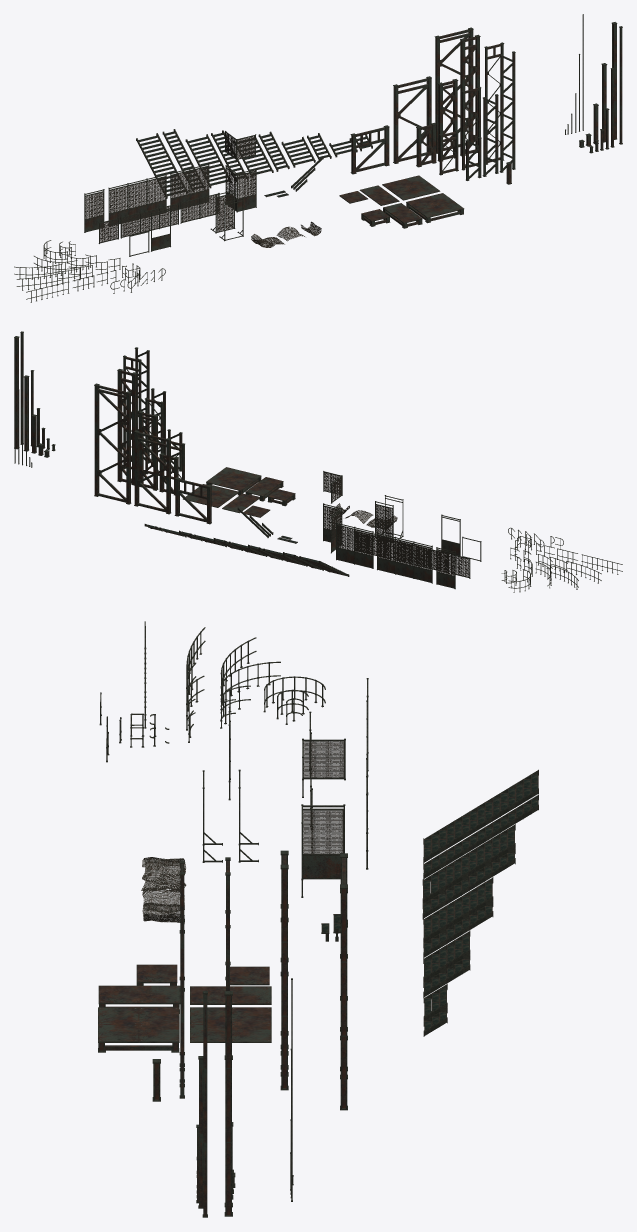
Rendered from beam_industrial_pack_n1.glb.
3 views of the same model, one above another, from view 1: azimuth 30°, elevation 25°; view 2: azimuth 150°, elevation 25°; view 3: azimuth 270°, elevation 25° (orthographic). The views are drawn at different scales.
Parts seen in each view (by area): view 1: beam_fence_03_Material #58_0, beam_big_big_mas_03_Material #58_0, beam_big_big_mas_02_Material #58_0, beam_fence_02_Material #58_0, beam_big_mas_03_Material #58_0, beam_fence_mid_03_Material #58_0, beam_pum_mas_03_Material #58_0, beam_fence_angle_01_Material #58_0, panel_mas_03_Material #58_0, beam_big_mas_02_Material #58_0, beam_stairs_big_05_Material #58_0, beam_big_big_mas_01_Material #58_0 (+22 smaller); view 2: beam_fence_03_Material #58_0, beam_big_big_mas_03_Material #58_0, beam_fence_02_Material #58_0, beam_big_big_mas_02_Material #58_0, beam_big_mas_03_Material #58_0, beam_big_mas_02_Material #58_0, panel_mas_03_Material #58_0, beam_big_big_mas_01_Material #58_0, beam_fence_01_Material #58_0, beam_fence_angle_01_Material #58_0, fence_barrier_01_Material #58_0, panel_03_Material #58_0 (+14 smaller); view 3: panel_mas_03_Material #58_0, beam_fence_angle_01_Material #58_0, beam_stairs_big_05_Material #58_0, panel_03_Material #58_0, beam_stairs_big_04_Material #58_0, beam_big_big_mas_03_Material #58_0, beam_fence_mid_angle_01_Material #58_0, panel_mas_02_Material #58_0, beam_stairs_mid_05_Material #58_0, beam_big_mas_03_Material #58_0, beam_stairs_big_03_Material #58_0, beam_big_03_Material #58_0 (+10 smaller).
Part boxes in pixels (left/top/right/bottom): beam_fence_03_Material #58_0: left=108, top=174, right=166, bottom=226; beam_big_big_mas_03_Material #58_0: left=434, top=27, right=473, bottom=153; beam_big_big_mas_02_Material #58_0: left=393, top=76, right=431, bottom=163; beam_fence_02_Material #58_0: left=170, top=163, right=209, bottom=211; beam_big_mas_03_Material #58_0: left=460, top=34, right=480, bottom=156; beam_fence_mid_03_Material #58_0: left=120, top=203, right=178, bottom=238; beam_pum_mas_03_Material #58_0: left=499, top=51, right=515, bottom=172; beam_fence_angle_01_Material #58_0: left=225, top=165, right=256, bottom=212; panel_mas_03_Material #58_0: left=406, top=193, right=464, bottom=223; beam_big_mas_02_Material #58_0: left=437, top=79, right=458, bottom=161; beam_stairs_big_05_Material #58_0: left=136, top=133, right=187, bottom=198; beam_big_big_mas_01_Material #58_0: left=350, top=125, right=389, bottom=174; beam_fence_03_Material #58_0: left=377, top=532, right=432, bottom=583; beam_big_big_mas_03_Material #58_0: left=94, top=383, right=131, bottom=504; beam_fence_02_Material #58_0: left=336, top=522, right=373, bottom=568; beam_big_big_mas_02_Material #58_0: left=134, top=430, right=171, bottom=514; beam_big_mas_03_Material #58_0: left=117, top=369, right=136, bottom=485; beam_big_mas_02_Material #58_0: left=138, top=411, right=158, bottom=490; panel_mas_03_Material #58_0: left=206, top=467, right=261, bottom=495; beam_big_big_mas_01_Material #58_0: left=174, top=477, right=211, bottom=524; beam_fence_01_Material #58_0: left=436, top=547, right=455, bottom=589; beam_fence_angle_01_Material #58_0: left=323, top=503, right=342, bottom=553; fence_barrier_01_Material #58_0: left=374, top=501, right=393, bottom=543; panel_03_Material #58_0: left=183, top=484, right=238, bottom=507; panel_mas_03_Material #58_0: left=98, top=1007, right=179, bottom=1052; beam_fence_angle_01_Material #58_0: left=301, top=804, right=345, bottom=897; beam_stairs_big_05_Material #58_0: left=423, top=769, right=538, bottom=863; panel_03_Material #58_0: left=190, top=1007, right=271, bottom=1042; beam_stairs_big_04_Material #58_0: left=422, top=824, right=515, bottom=903; beam_big_big_mas_03_Material #58_0: left=340, top=853, right=347, bottom=1110; beam_fence_mid_angle_01_Material #58_0: left=302, top=738, right=345, bottom=797; panel_mas_02_Material #58_0: left=98, top=985, right=180, bottom=1013; beam_stairs_mid_05_Material #58_0: left=423, top=794, right=538, bottom=879; beam_big_mas_03_Material #58_0: left=280, top=850, right=288, bottom=1090; beam_stairs_big_03_Material #58_0: left=423, top=877, right=493, bottom=942; beam_big_03_Material #58_0: left=224, top=991, right=232, bottom=1216.
Bounding box in the file's own units: 49.77 × 10 × 16.2.
Materials: 1 (1 with a texture image).
